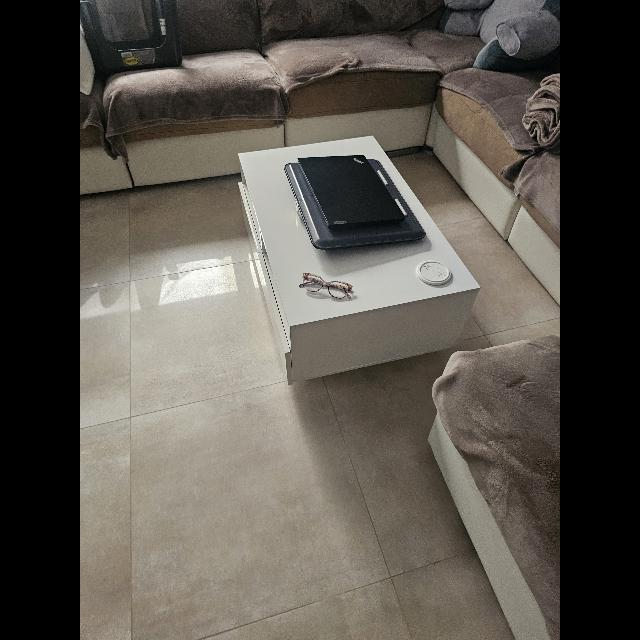glasses: (299, 273, 353, 299)
